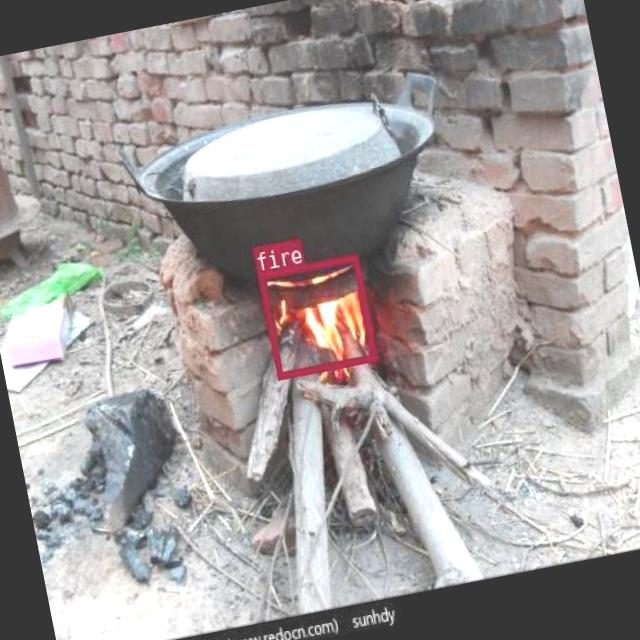fire: (256, 252, 376, 378)
